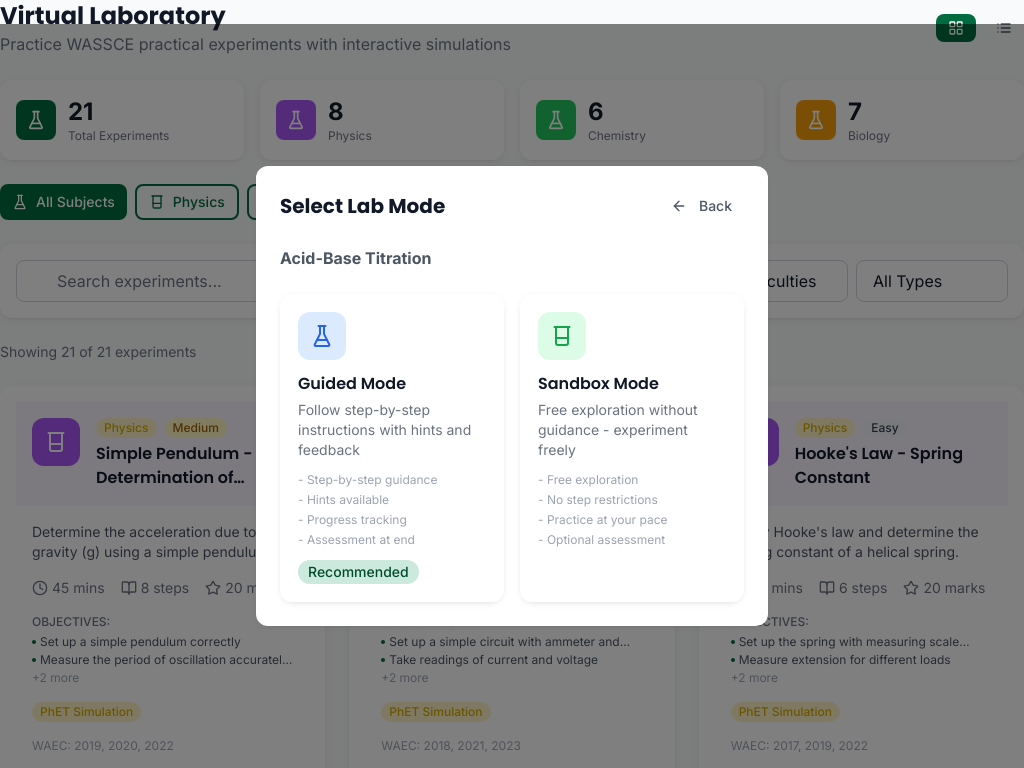
Test case: VirtualLabPage mode selection error handling › surfaces the session-start error inside the modal instead of failing silently
This screenshot has width=1024, height=768.
Click the element that starts with "Guided Mode".
click(392, 448)  # box [280,294,504,602]
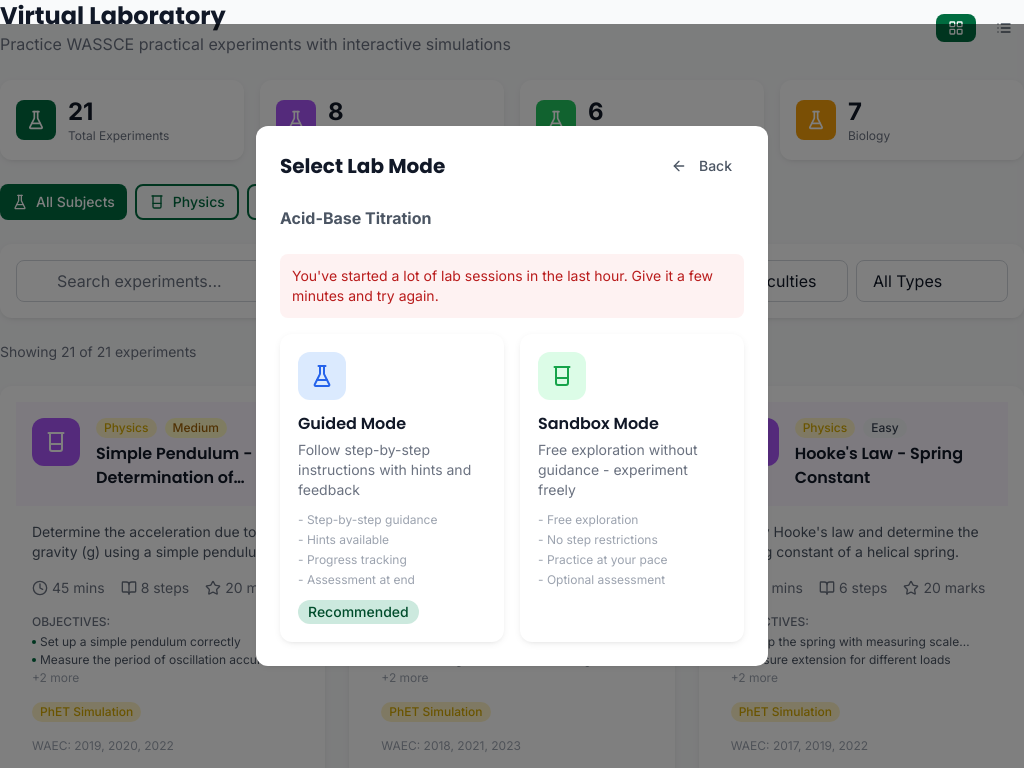
Expected: the text "Select Lab Mode" is shown, [280,152,445,180]
Now the message shows "started a lot of lab sessions in the last hour", box [292,267,713,304]
